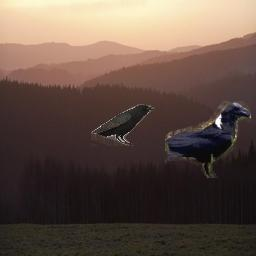Crow: (165, 101, 251, 178), (91, 104, 155, 146)
